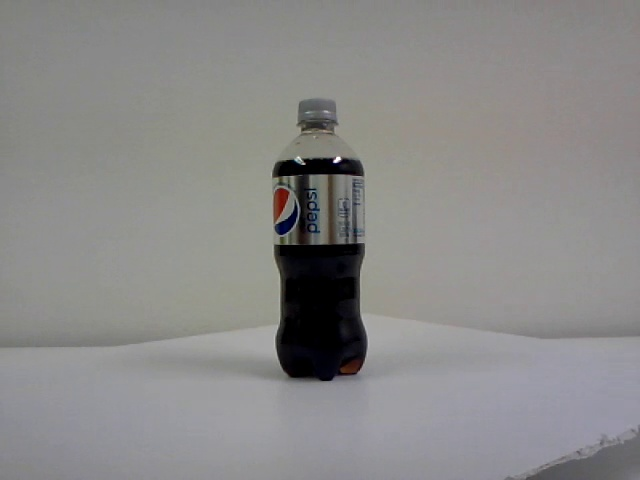botolplastik: (274, 100, 365, 382)
